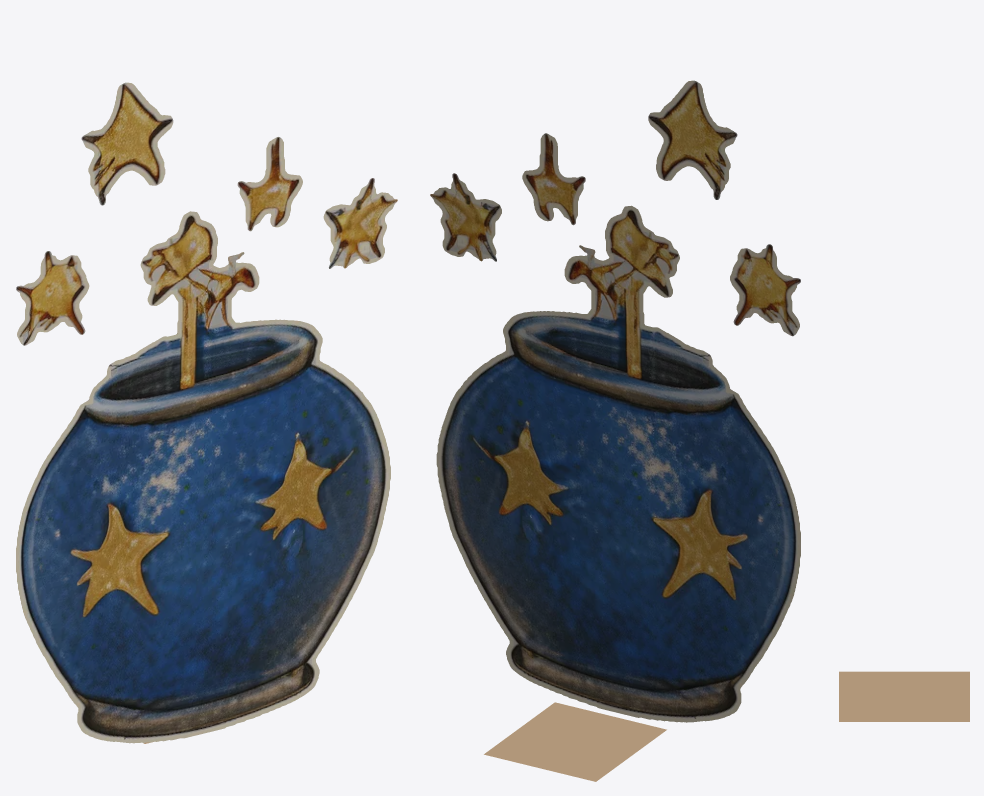
Rendered from toad-standee-star-jar.glb.
The picture shows the model from 3 angles, left to right: view 1: azimuth 30°, elevation 25°; view 2: azimuth 150°, elevation 25°; view 3: azimuth 270°, elevation 25°; orthographic projection. The views are drawn at different scales.
Visible parts, largest first — view 1: star-jar; view 2: star-jar; view 3: star-jar.
Boxes of the visible parts, x1,y1,x2,y2 form: star-jar: (16, 82, 397, 743); star-jar: (430, 80, 800, 781); star-jar: (839, 671, 969, 721).
Bounding box in the file's own units: 0.1 × 0.1669 × 0.035.
Materials: 1 (1 with a texture image).
